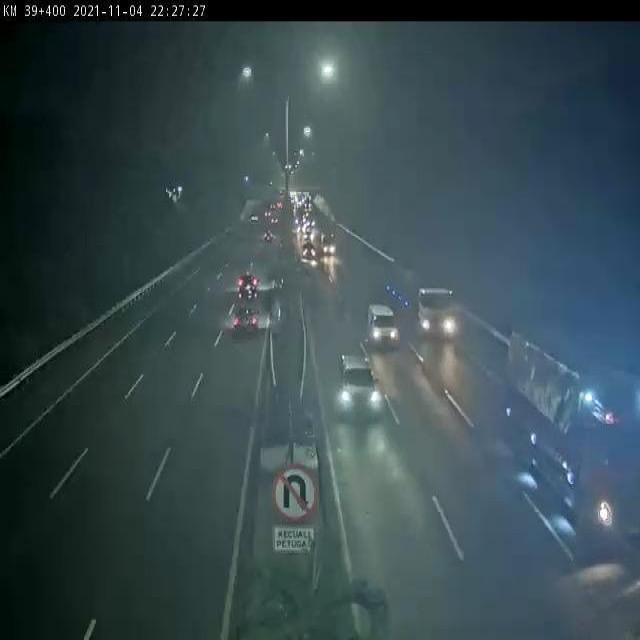car: (337, 352, 378, 407), (368, 304, 399, 347), (231, 312, 262, 336), (236, 272, 259, 301)
truck: (506, 325, 640, 543), (391, 264, 458, 341)
